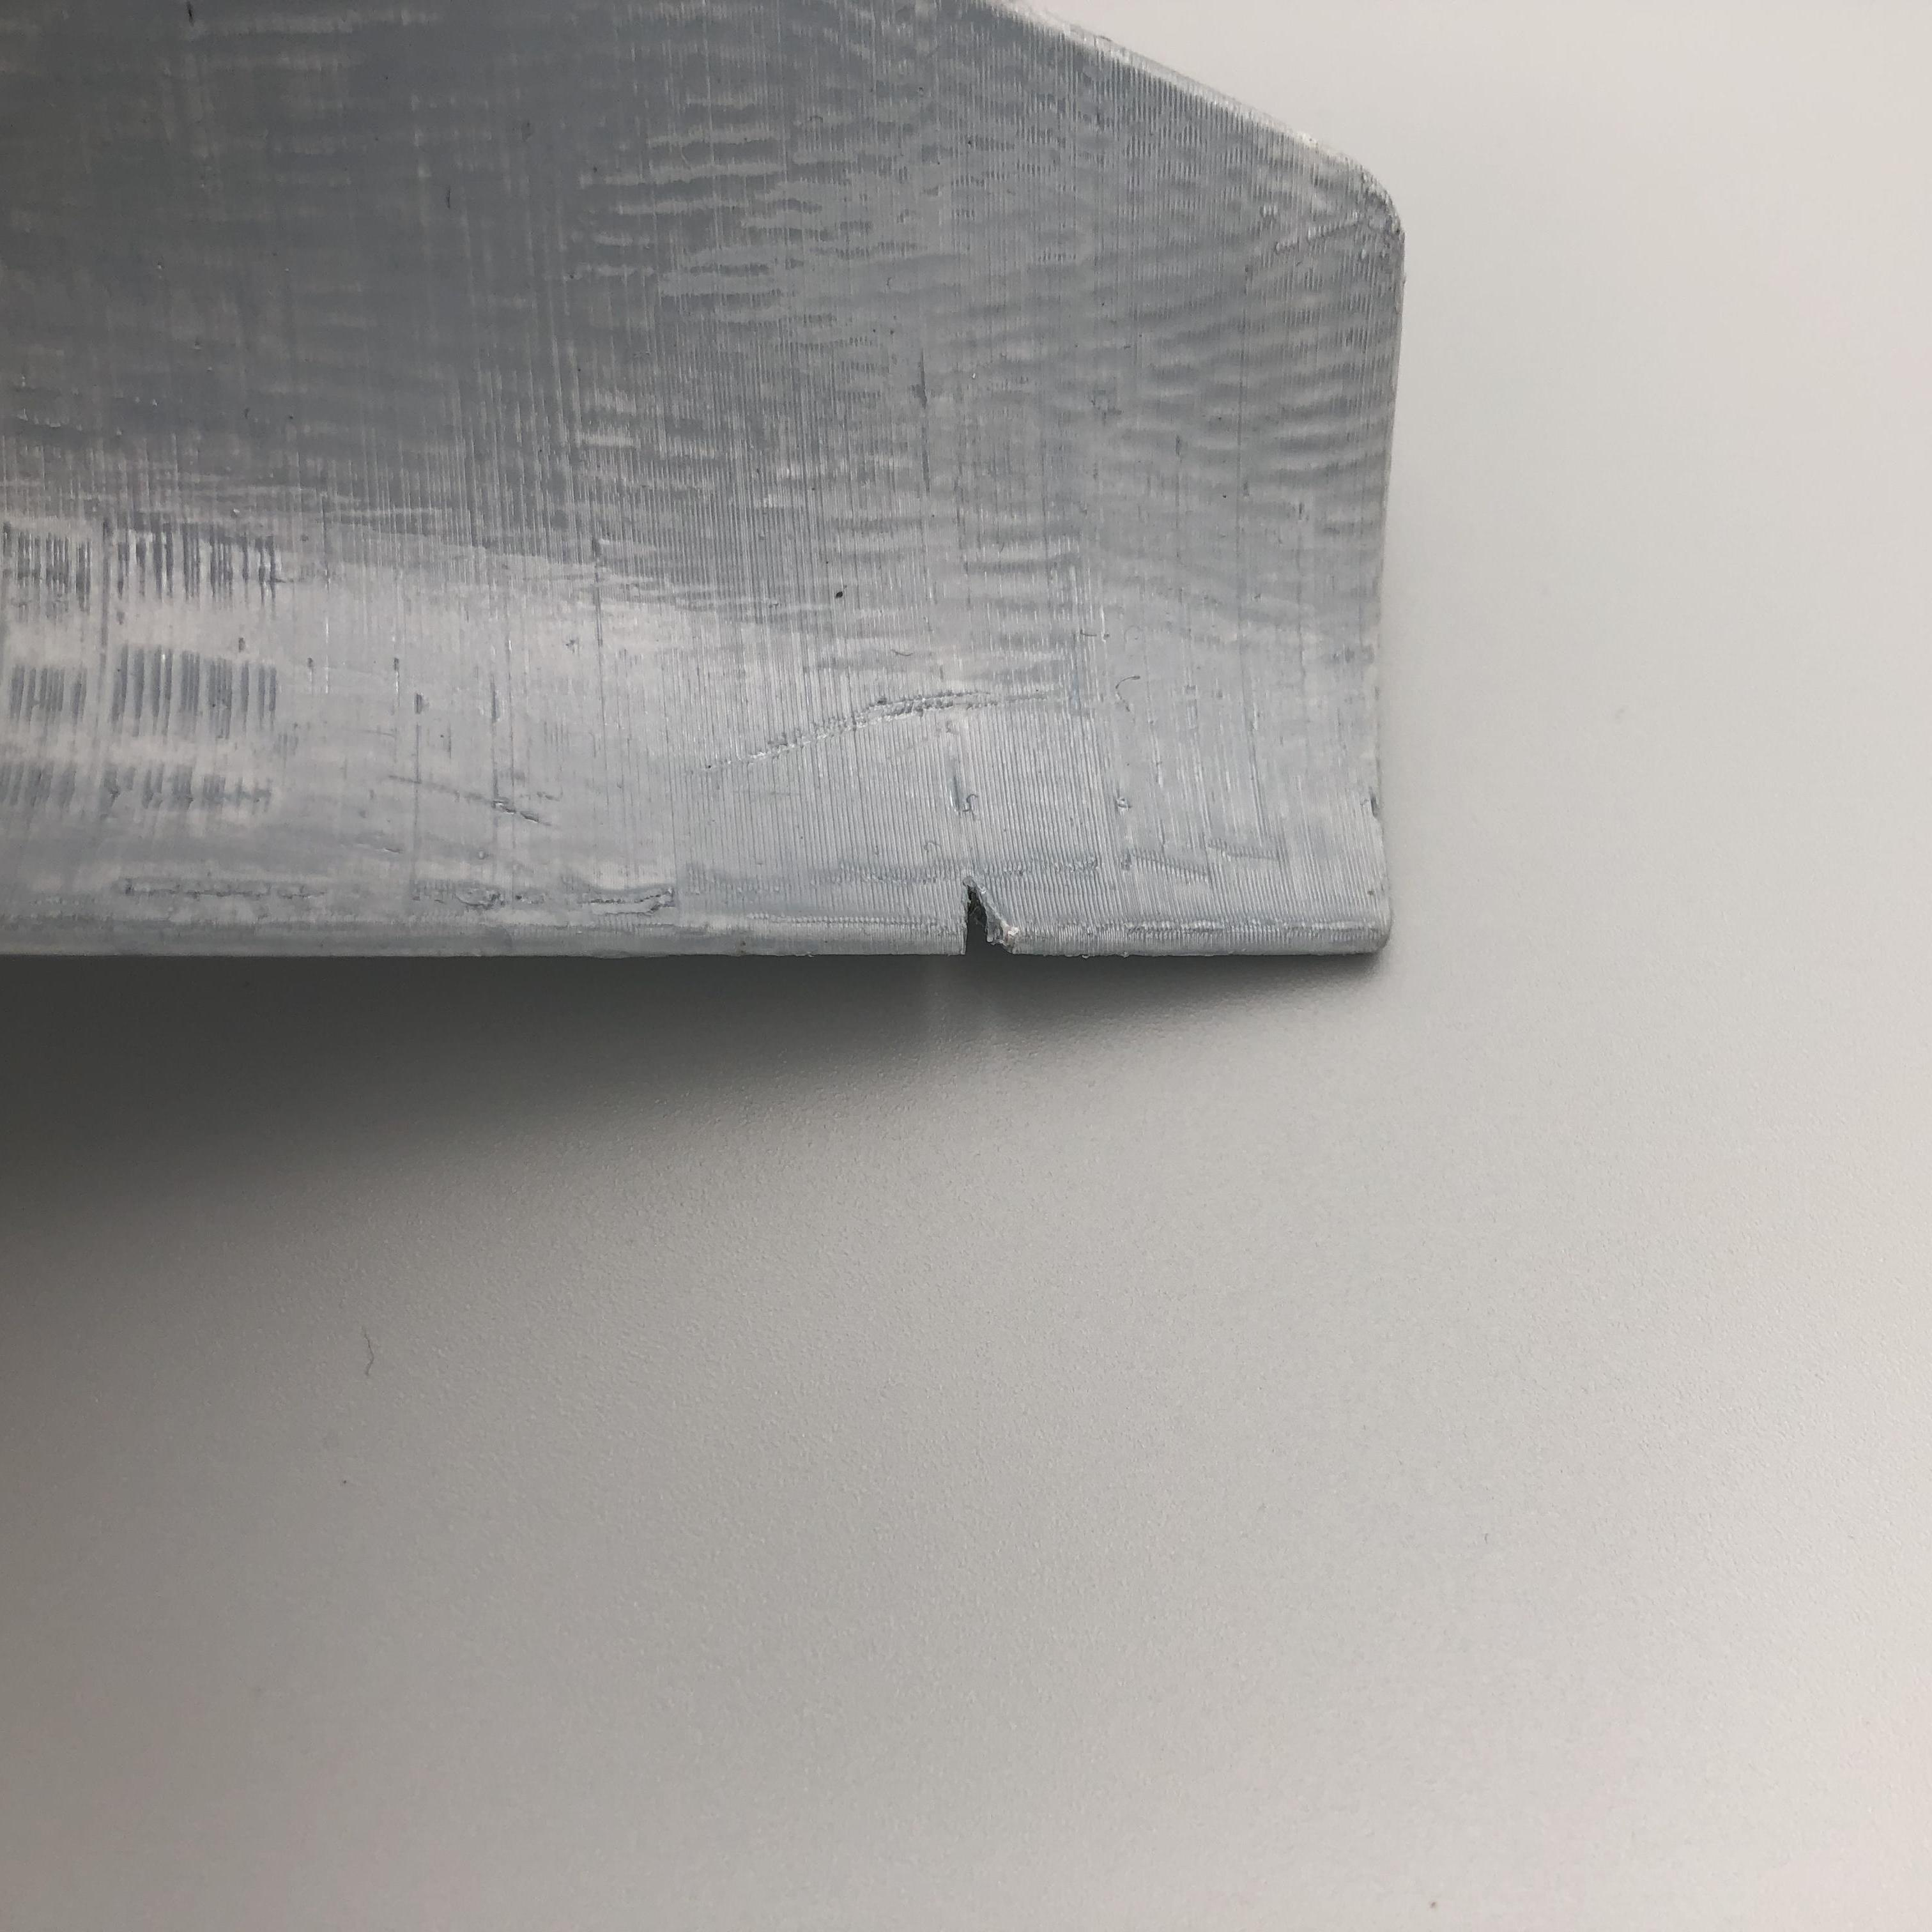groove: (947, 878, 1028, 954)
